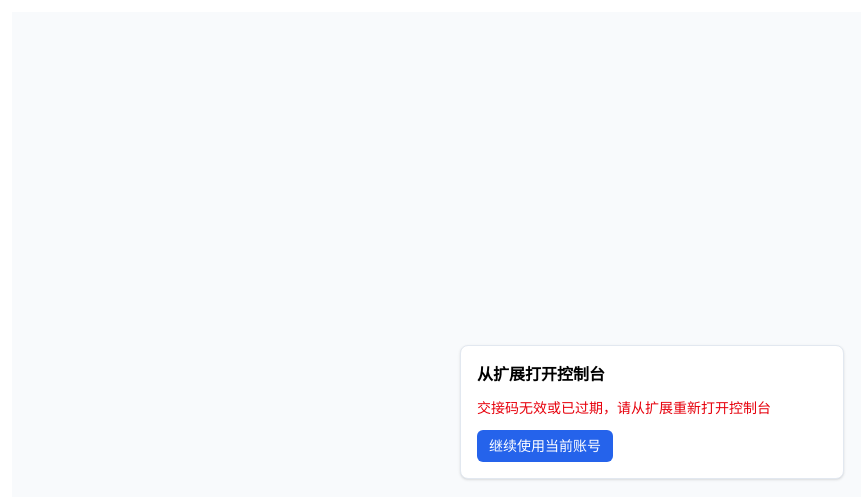
Test: 从扩展打开控制台（handoff） › 码无效时显示原因，控制台已有的登录不受影响
Check: the message shows "交接码无效或已过期", box left=477, top=399, right=771, bottom=416
Click the button "继续使用当前账号".
click(545, 446)  # box left=477, top=430, right=613, bottom=462
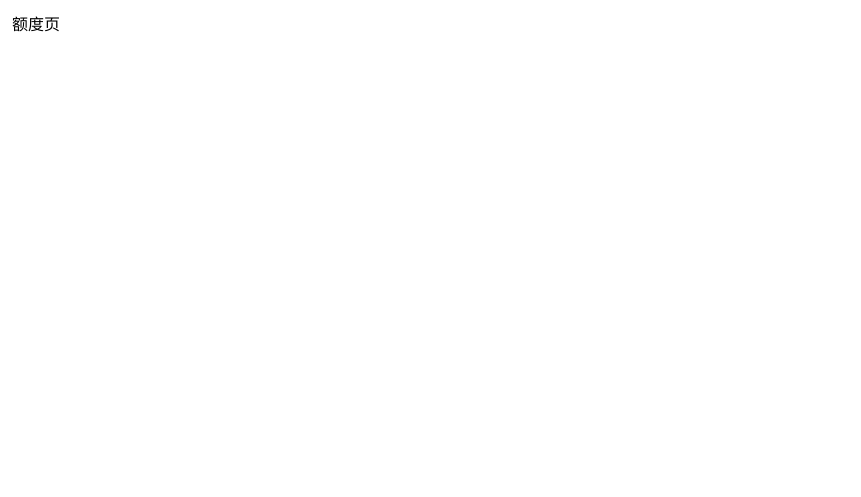
Check: the text "额度页" is shown, box left=12, top=14, right=60, bottom=34
